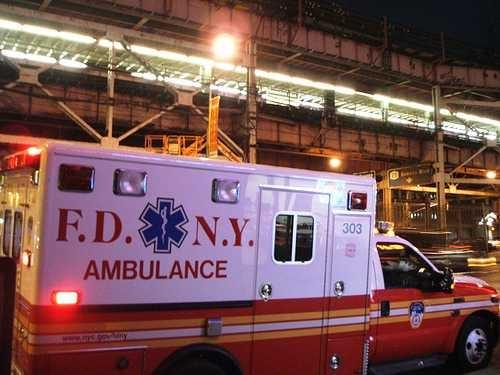car: (0, 133, 499, 374)
